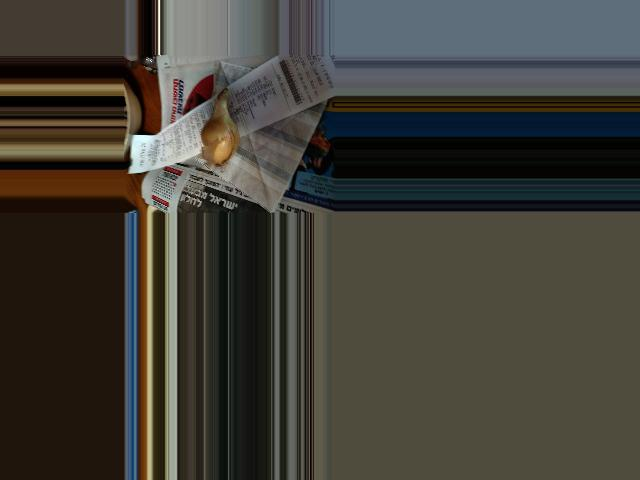onion: (201, 100, 242, 163)
